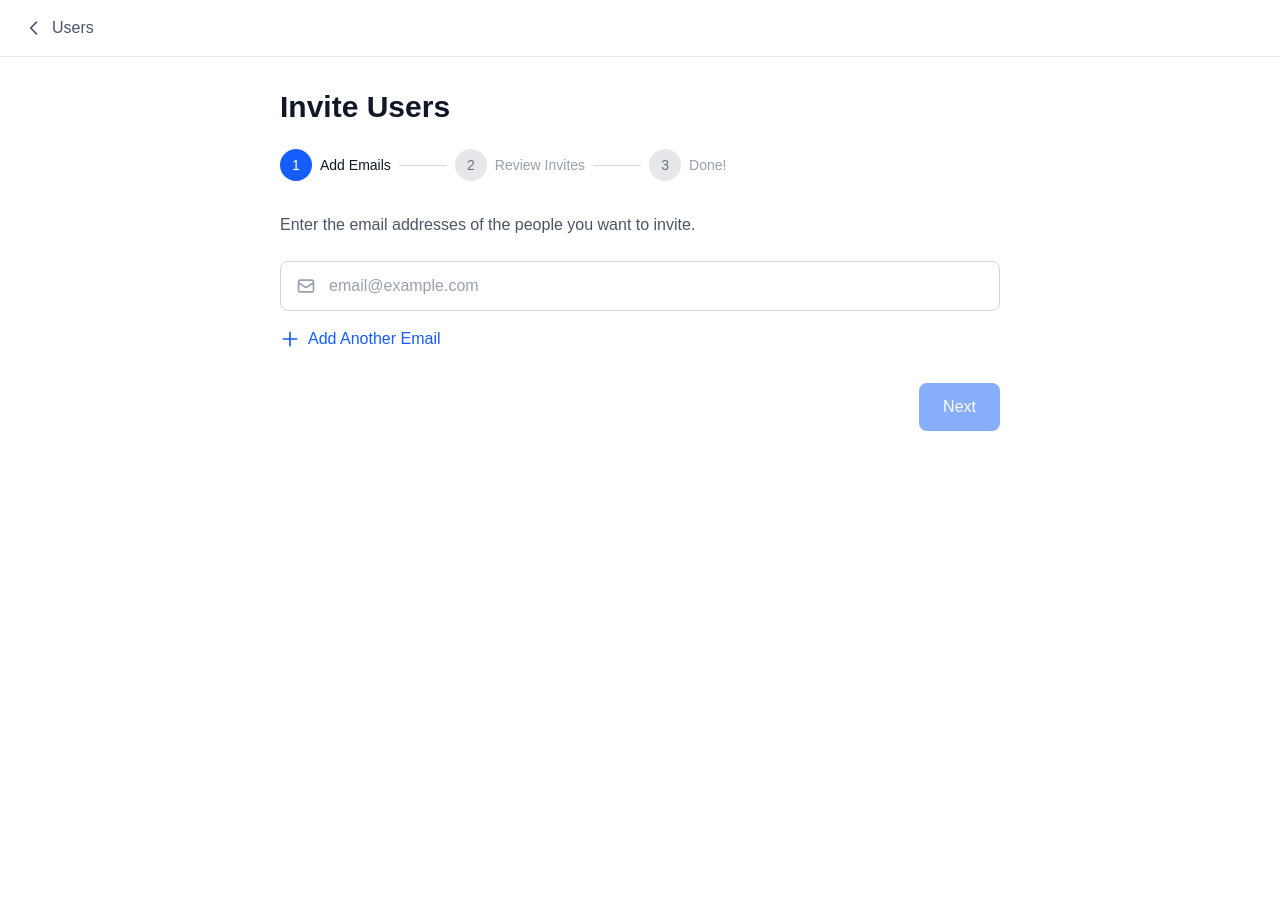
Scenario: InviteUserModal › should navigate to step 2 when Next is clicked with valid email
In the field with placeholder "email@example.com": (640, 286) [280,261,1000,311], type "test@example.com"
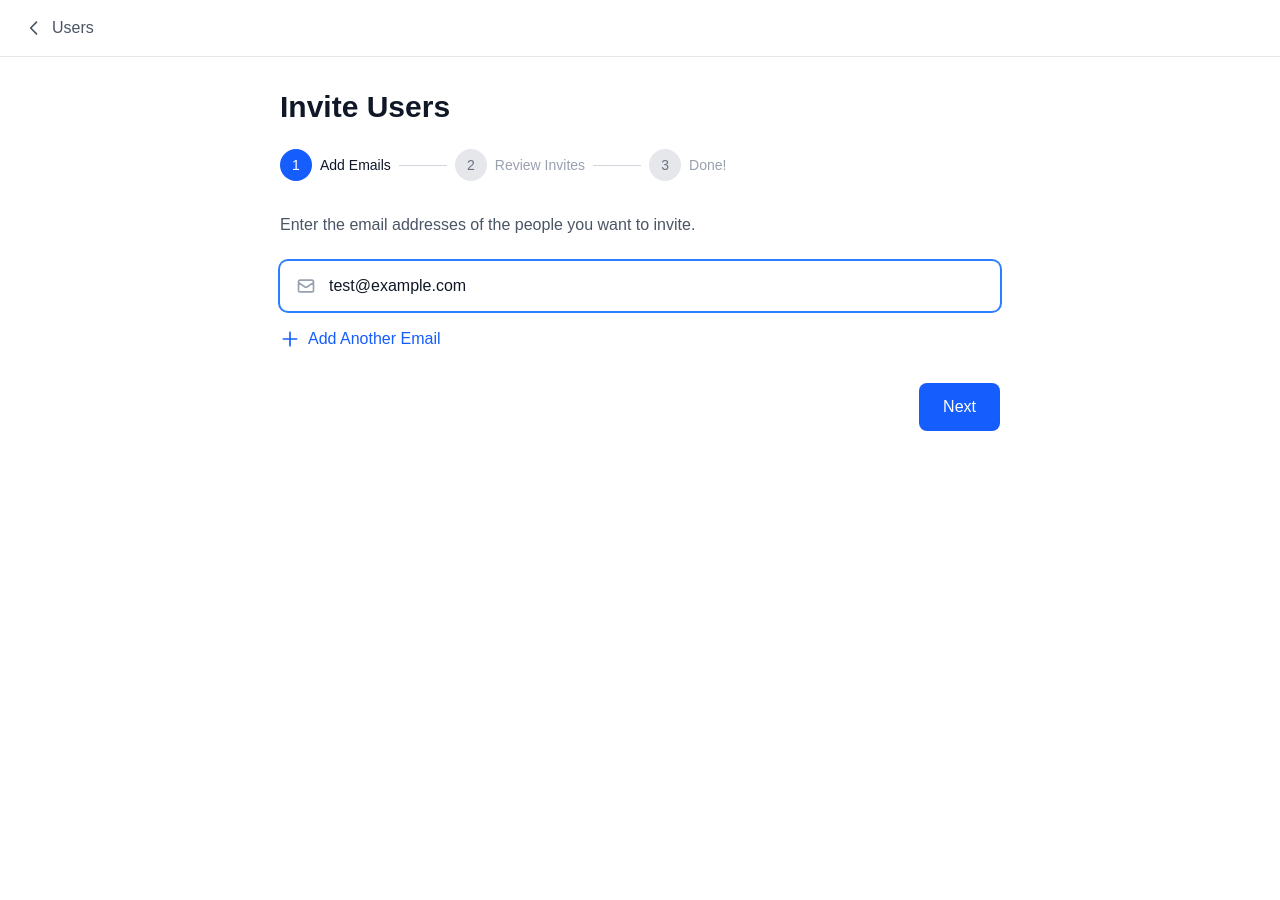
Click the button "Next": (960, 407) [919,383,1000,431]
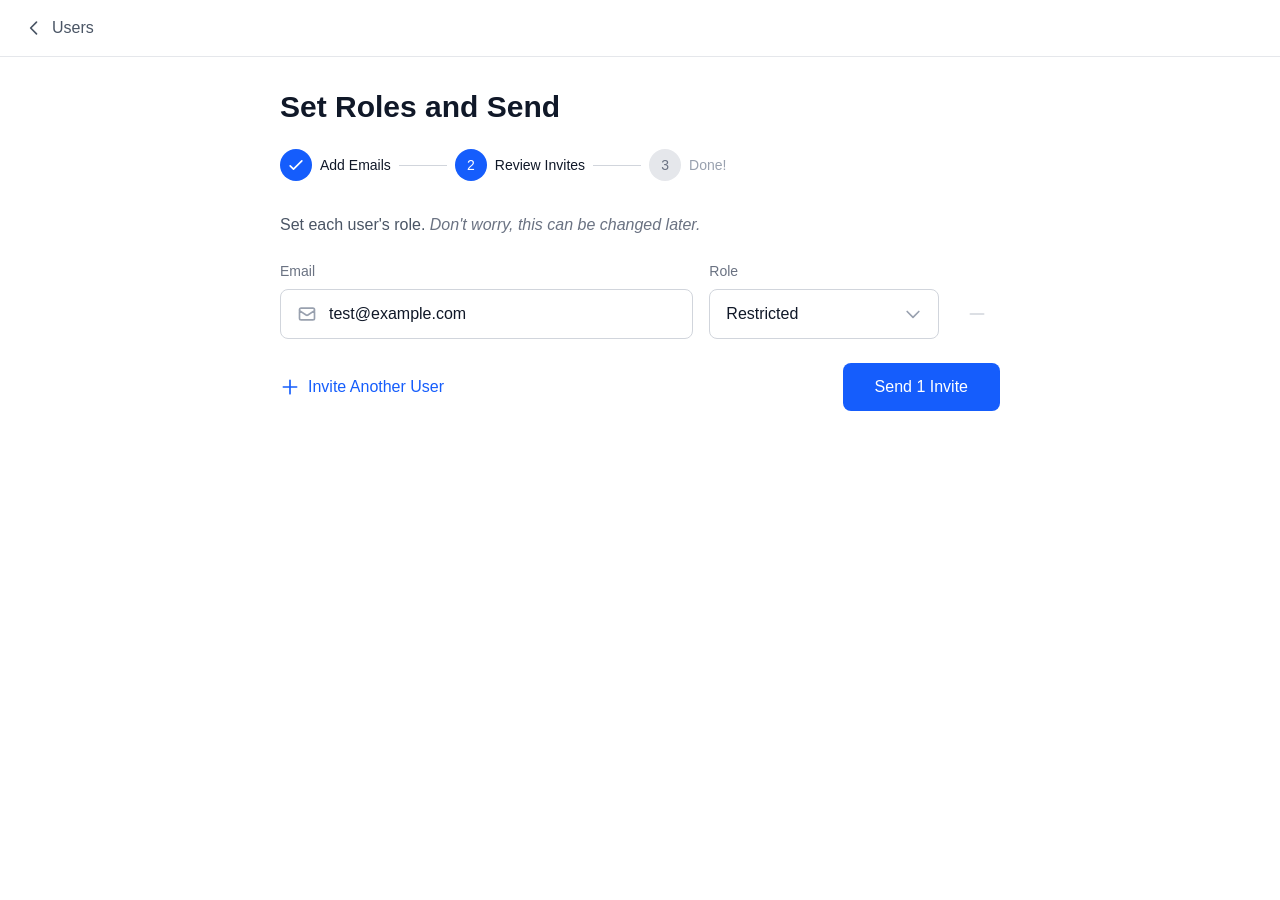
Result: the heading "Set Roles and Send" is shown at [280,90,560,123]
Result: the text "test@example.com" is shown at [329,302,466,326]
